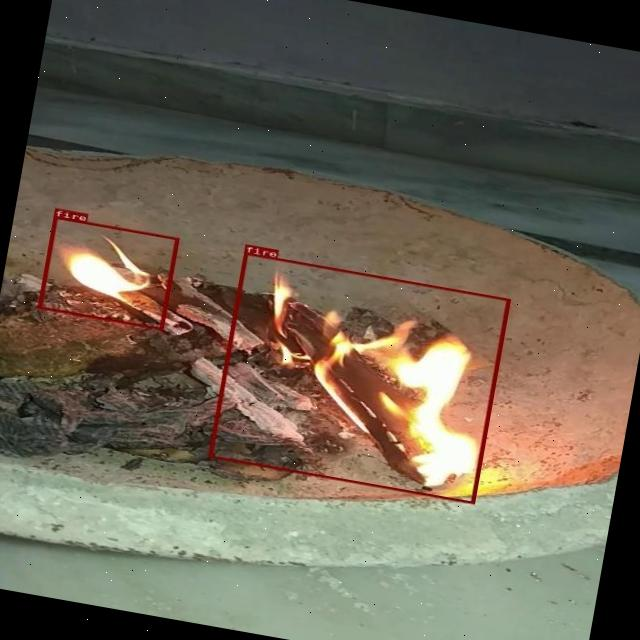fire: (206, 252, 509, 502), (37, 215, 178, 330)
